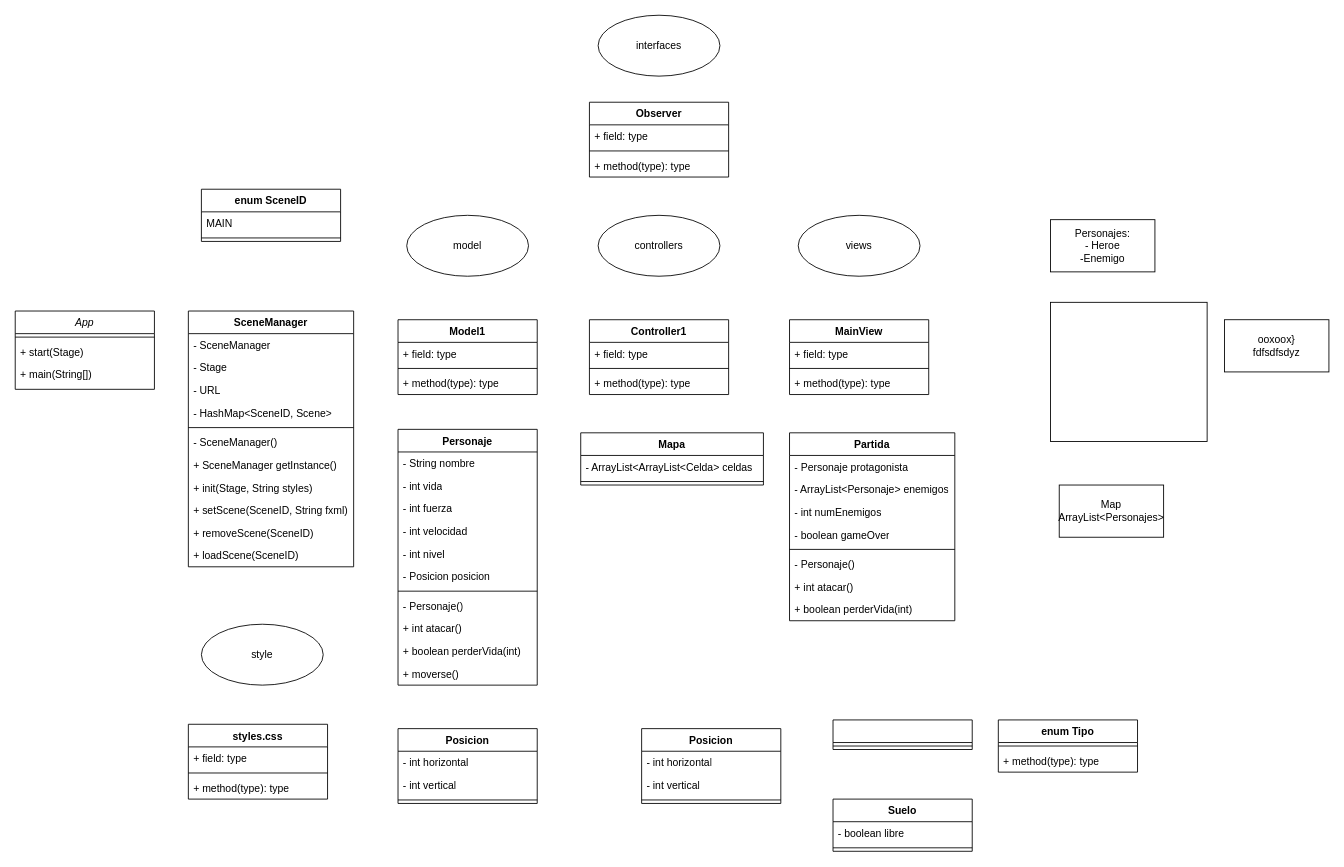
Some shapes in this 1344 by 867 pixel diagram are drawn without their labels. The centre of each missing label's shape, as x and y in pixels:
"Celda" goes at point 902,734.
"Celda -Suelo -SpwanHeroe -SpawnEnemigo -Pared Celda -Tipo ->Enum x4" goes at point 1128,371.
